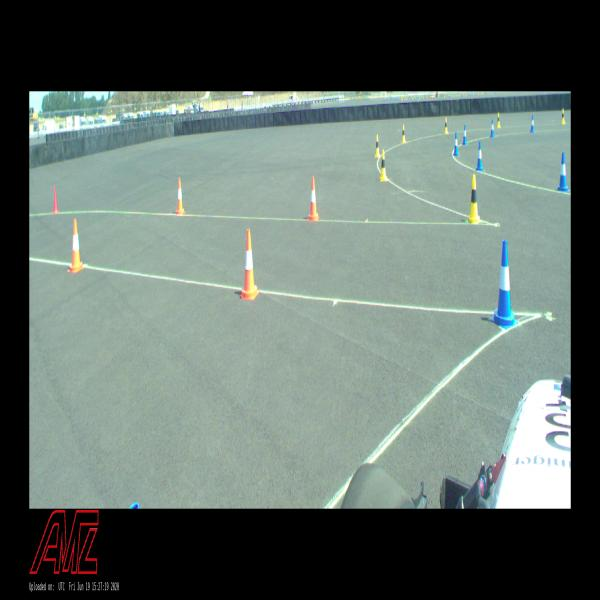blue_cone: (490, 240, 518, 329), (556, 152, 570, 192), (476, 141, 483, 170), (462, 124, 468, 144), (454, 132, 459, 156), (490, 119, 495, 137), (530, 116, 535, 132)
orange_cone: (240, 229, 258, 300), (67, 219, 85, 273), (308, 176, 320, 222), (176, 178, 185, 215)
unknown_cone: (51, 184, 60, 214)
yellow_cone: (466, 174, 482, 224), (380, 150, 387, 181), (375, 134, 381, 158), (401, 125, 406, 142), (444, 117, 449, 134), (497, 112, 501, 128), (562, 109, 565, 124)
